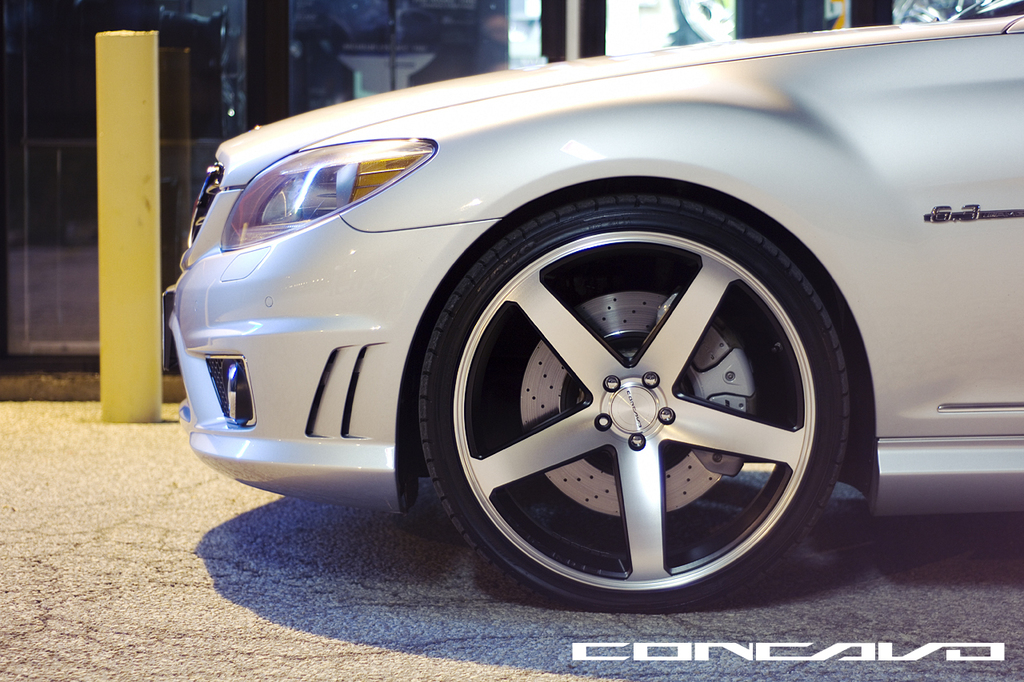Car: (163, 0, 1023, 614)
